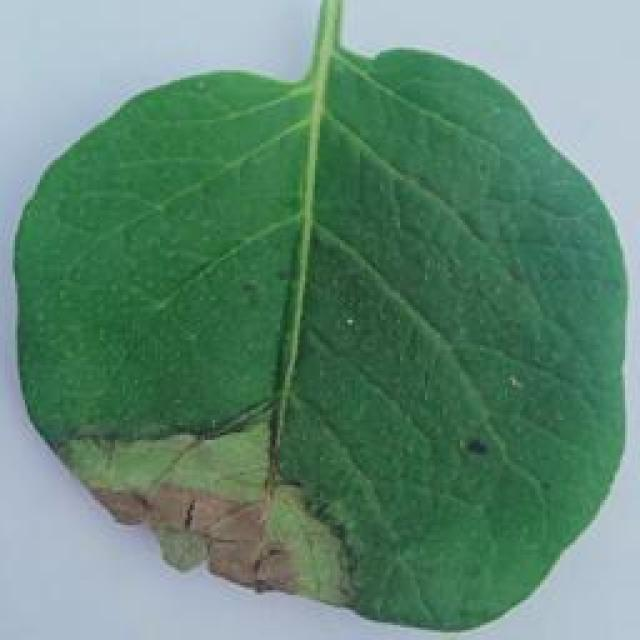Potato_Late_Blight: (23, 8, 632, 640)
